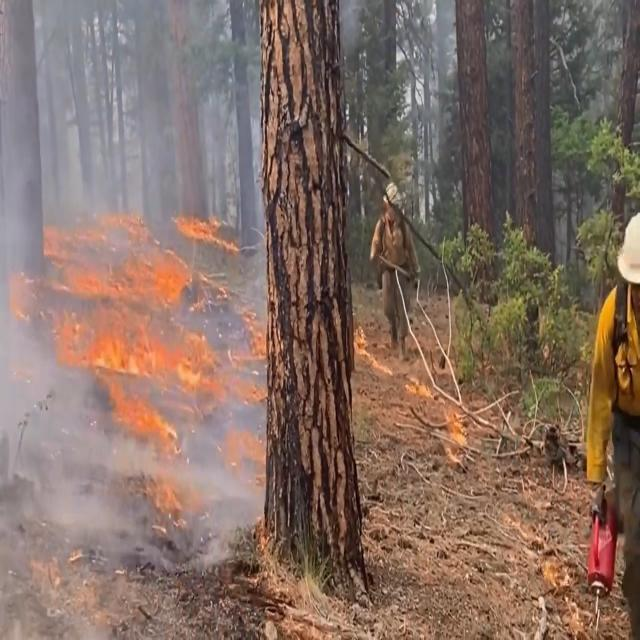Fire: (23, 168, 264, 480)
